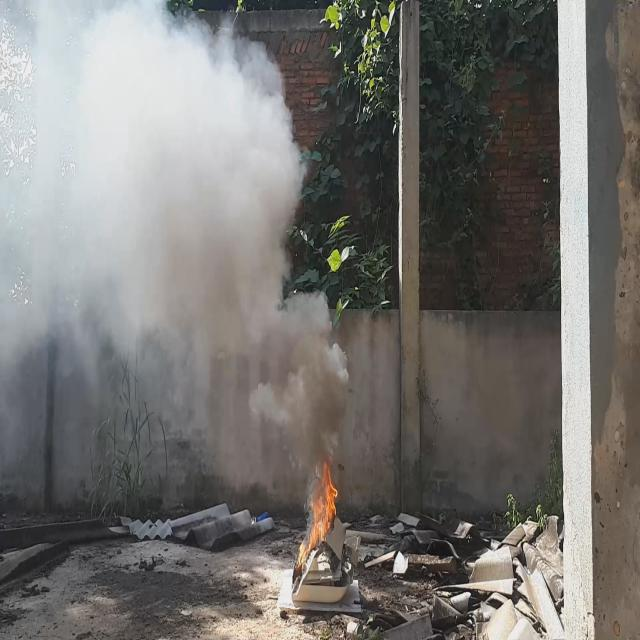Fire: (296, 460, 340, 569)
Smoke: (0, 0, 352, 489)
